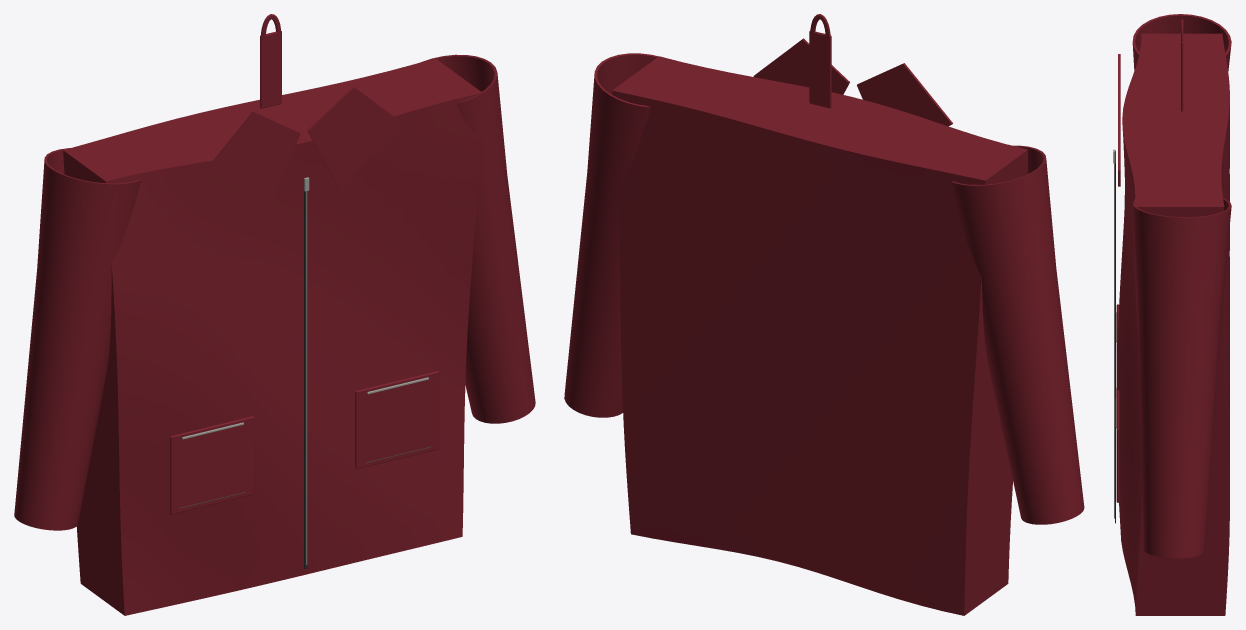
Rendered from bedroom-jacket-on-hook-1e0646188922.glb.
3 renders of one model, left to right at view 1: azimuth 30°, elevation 25°; view 2: azimuth 150°, elevation 25°; view 3: azimuth 270°, elevation 25°, orthographic. The views are drawn at different scales.
Visible parts, largest first — view 1: accent-crimson, brushed, plastic-dark; view 2: accent-crimson; view 3: accent-crimson, brushed, plastic-dark.
Boxes of the visible parts, x1,y1,x2,y2 form: accent-crimson: (14,14,535,615); brushed: (182,177,428,564); plastic-dark: (304,191,307,568); accent-crimson: (564,14,1084,615); accent-crimson: (1116,14,1231,615); brushed: (1113,149,1116,518); plastic-dark: (1115,150,1115,523).
Size of the model in its own units: 0.6591 by 0.6702 by 0.1385.
